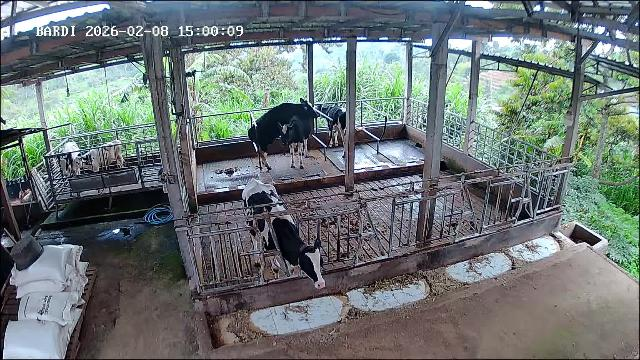mounting: (248, 99, 318, 167)
